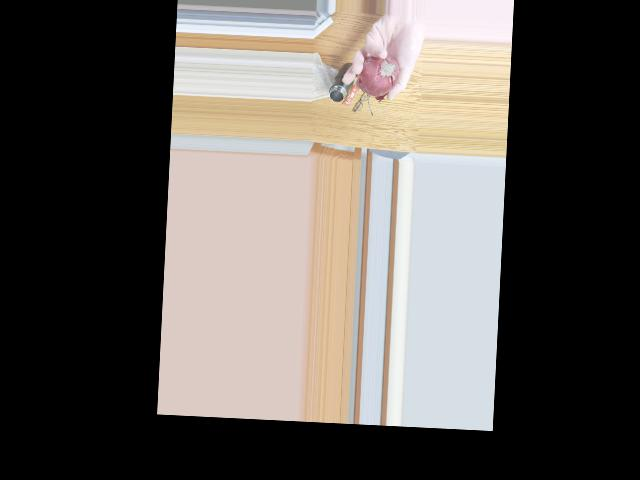onion: (357, 53, 401, 92)
